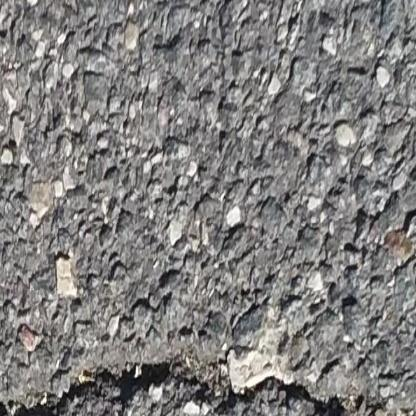Cracks: (0, 360, 353, 416), (351, 402, 414, 416)
